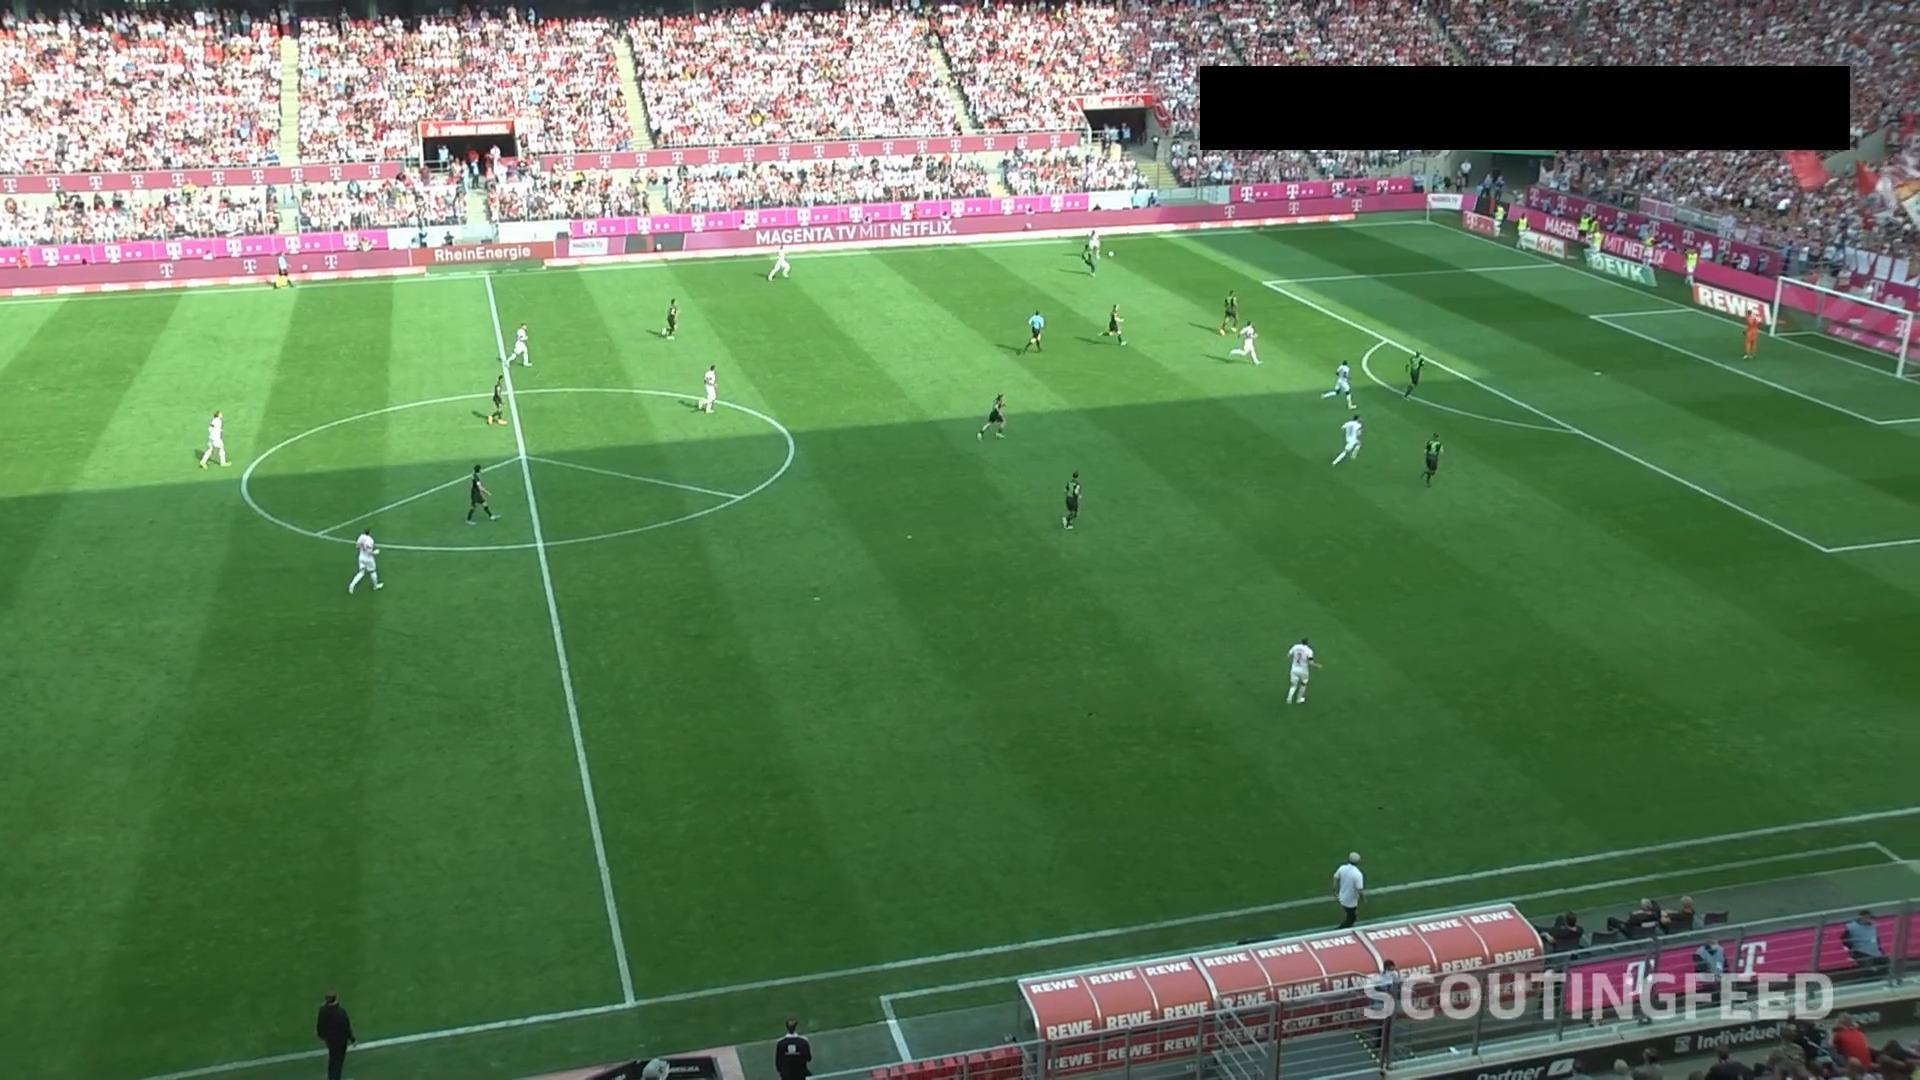ball: (1108, 249, 1116, 257)
